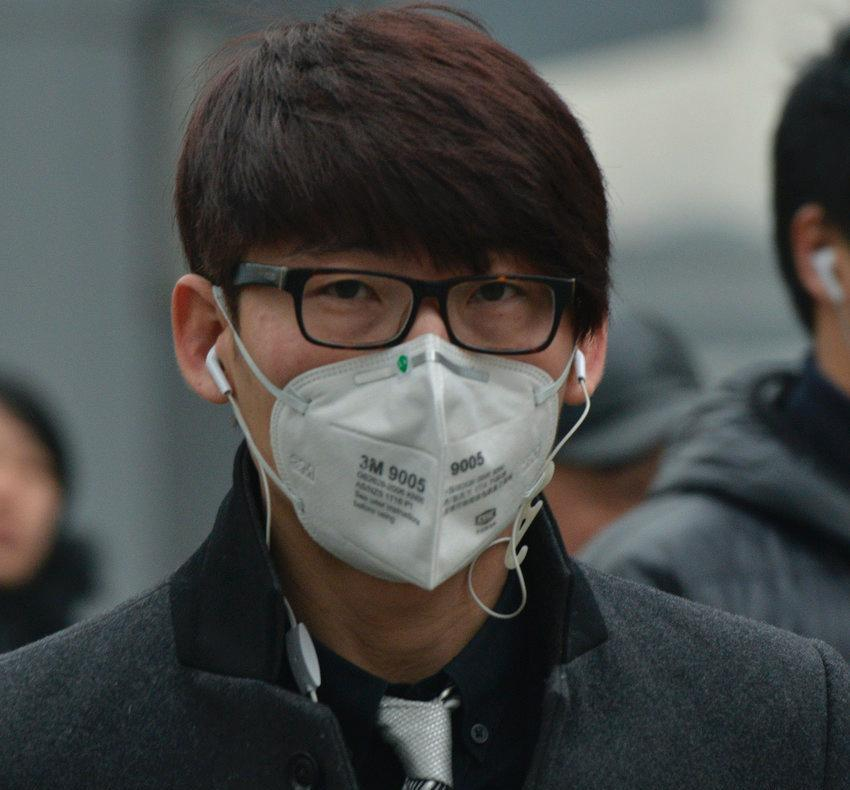face_mask: (244, 161, 565, 586)
